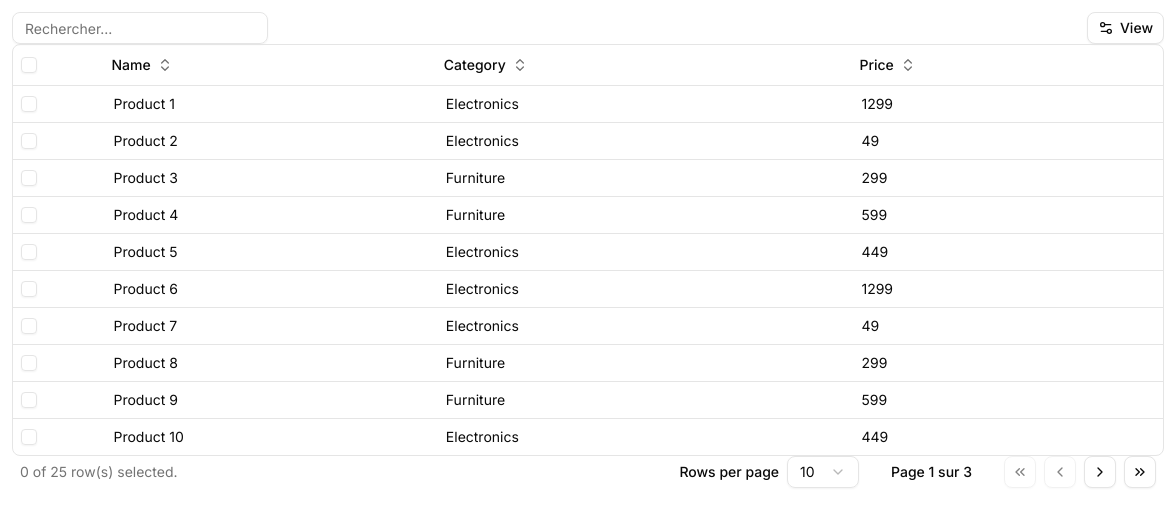
DataTable locale › merges overrides with the default strings
expect the text "Page 1 sur 3" is shown: met, box [891, 462, 972, 482]
expect the button named "Go to next page" is shown: met, box [1084, 456, 1116, 488]
In the search field: (140, 28) [12, 12, 268, 44], type "zzz"
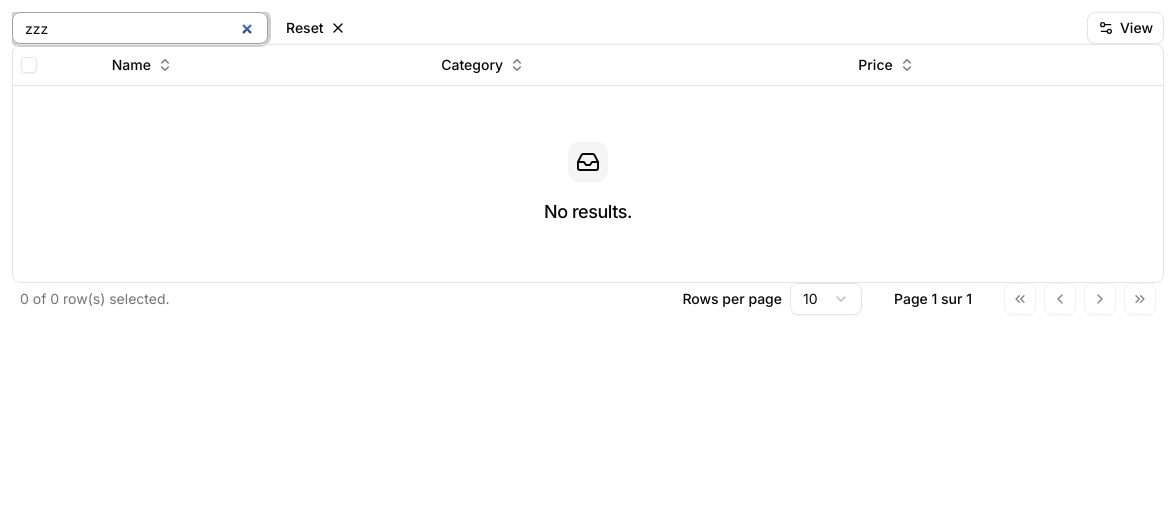
expect the text "No results." is shown: met, box [544, 198, 632, 226]
